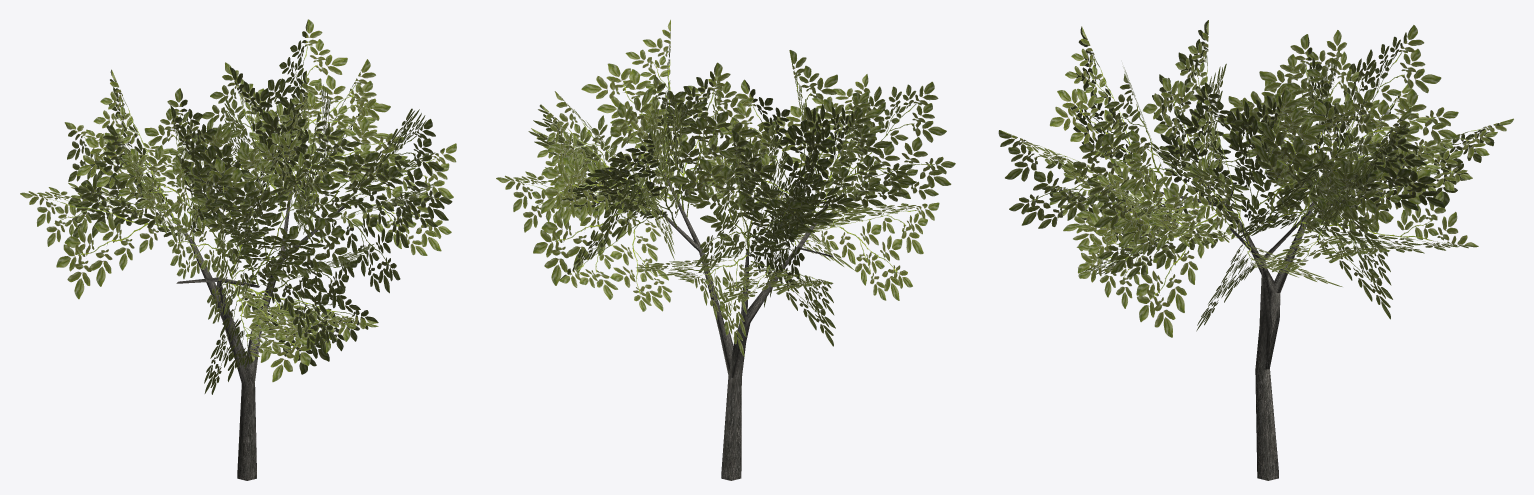
File: Tree-B-03.fbx
The picture shows the model from 3 angles, left to right: view 1: azimuth 30°, elevation 25°; view 2: azimuth 150°, elevation 25°; view 3: azimuth 270°, elevation 25°; orthographic projection. The views are drawn at different scales.
Visible parts, largest first — view 1: Tree-B-03; view 2: Tree-B-03; view 3: Tree-B-03.
Boxes of the visible parts, x1,y1,x2,y2 form: Tree-B-03: (20,19,456,480); Tree-B-03: (496,19,955,480); Tree-B-03: (998,20,1513,480).
Bounding box in the file's own units: 928 × 918 × 1022.
